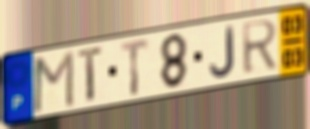8: (158, 31, 190, 91)
J: (208, 24, 237, 80)
M: (31, 48, 76, 115)
R: (240, 18, 280, 78)
T: (119, 36, 151, 98), (76, 43, 106, 106)
